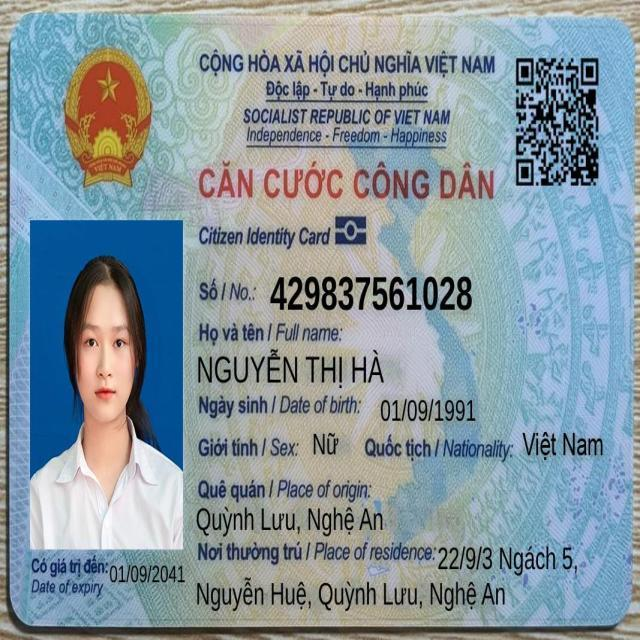current_place: (195, 574, 506, 615), (436, 543, 579, 579)
dob: (379, 395, 477, 427)
expire_date: (109, 563, 186, 585)
gender: (311, 429, 340, 460)
id: (268, 272, 474, 316)
name: (195, 345, 386, 391)
nationality: (520, 428, 605, 463)
origin_place: (195, 503, 385, 539)
